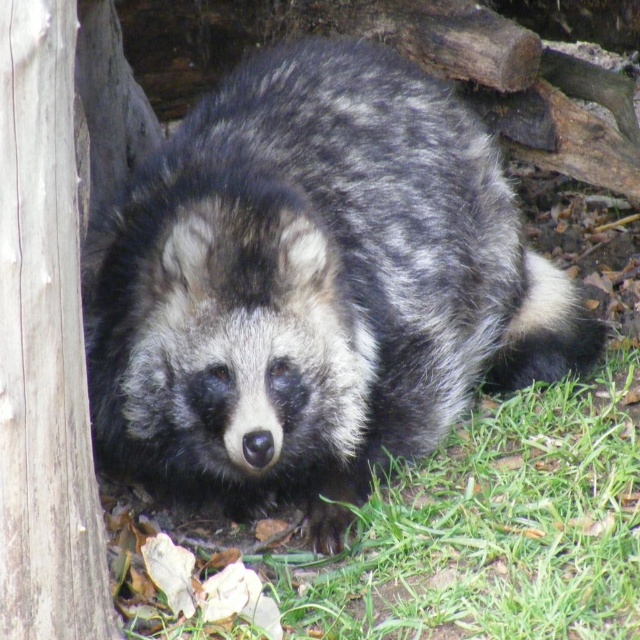Raccoon: (83, 27, 609, 560)
